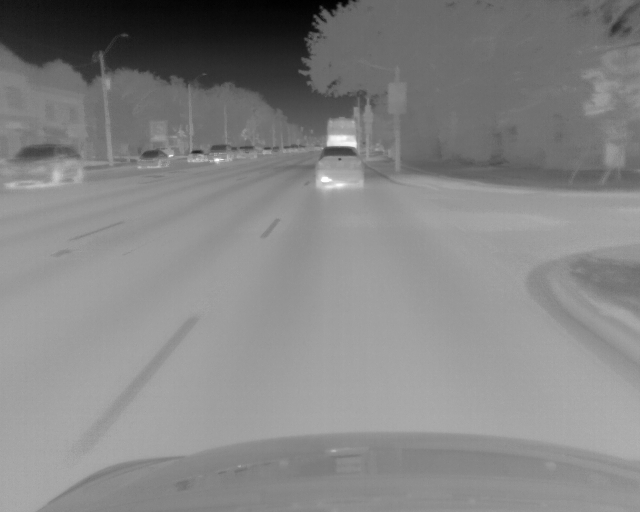car: (1, 144, 85, 191), (316, 147, 364, 190), (326, 116, 357, 149), (136, 149, 169, 170), (207, 144, 232, 164), (185, 149, 206, 164), (236, 146, 255, 161), (261, 146, 270, 156), (291, 146, 300, 156), (282, 145, 290, 154)
